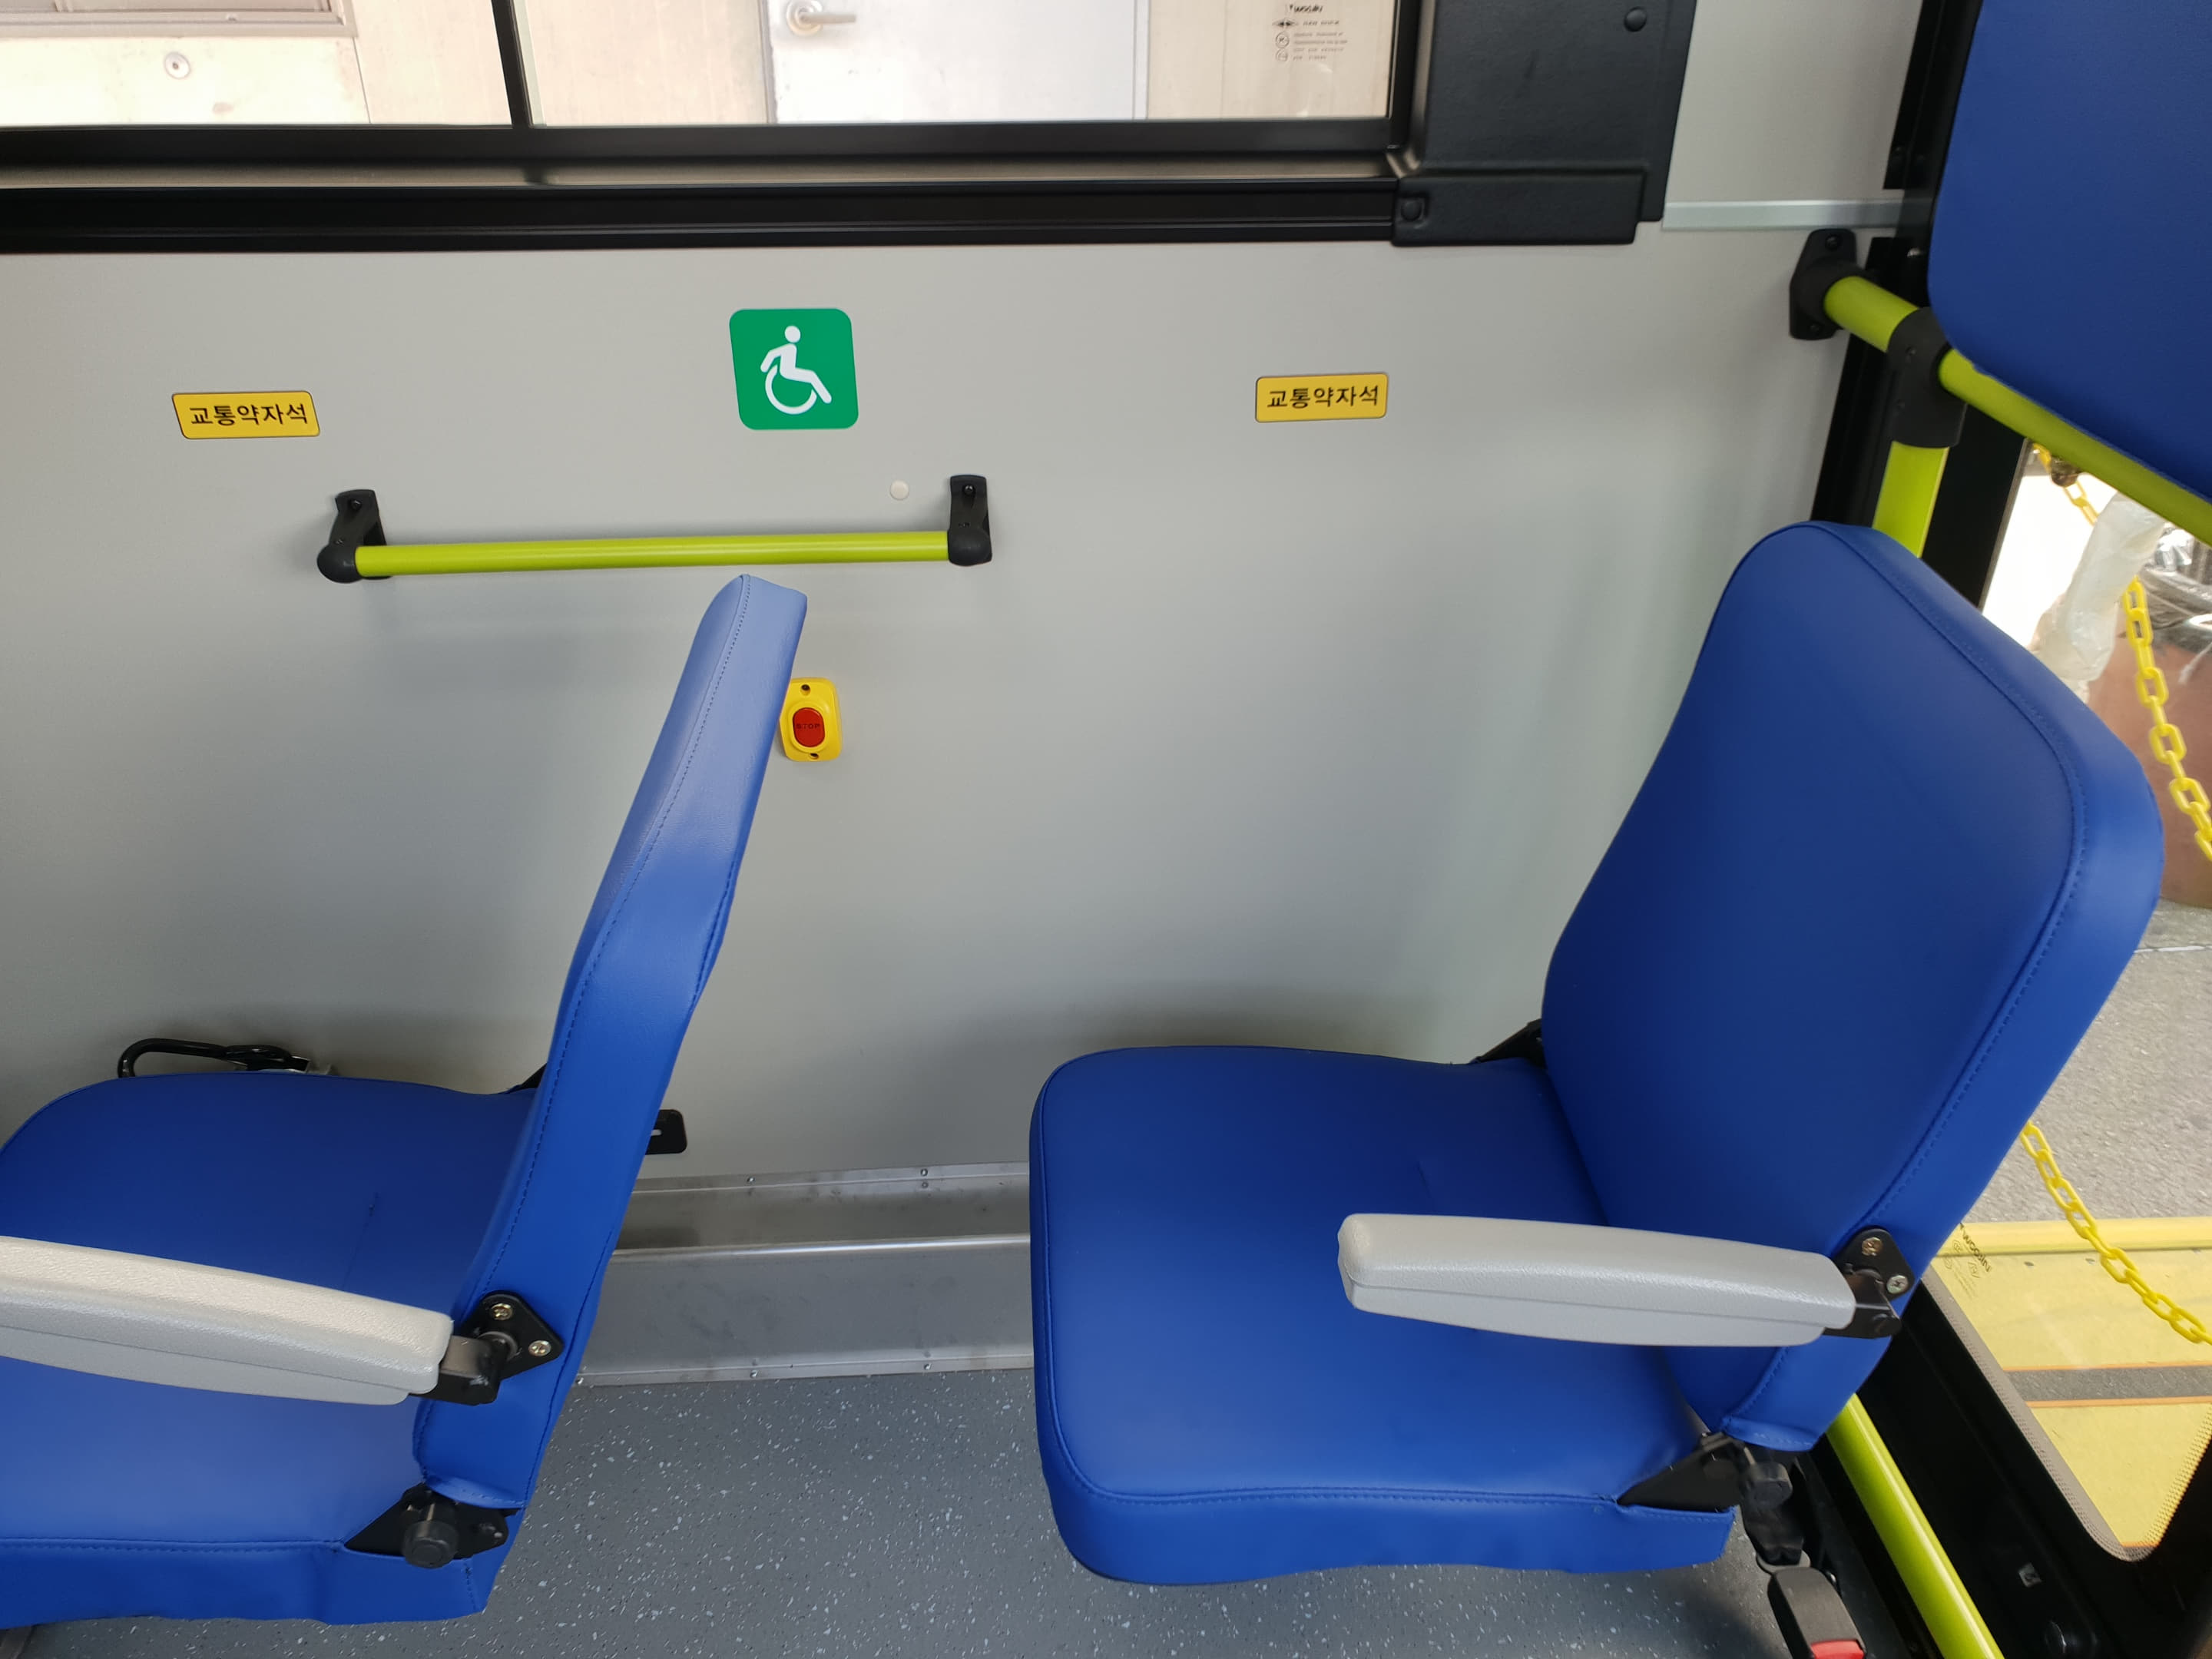seat: (1031, 519, 2167, 1584)
